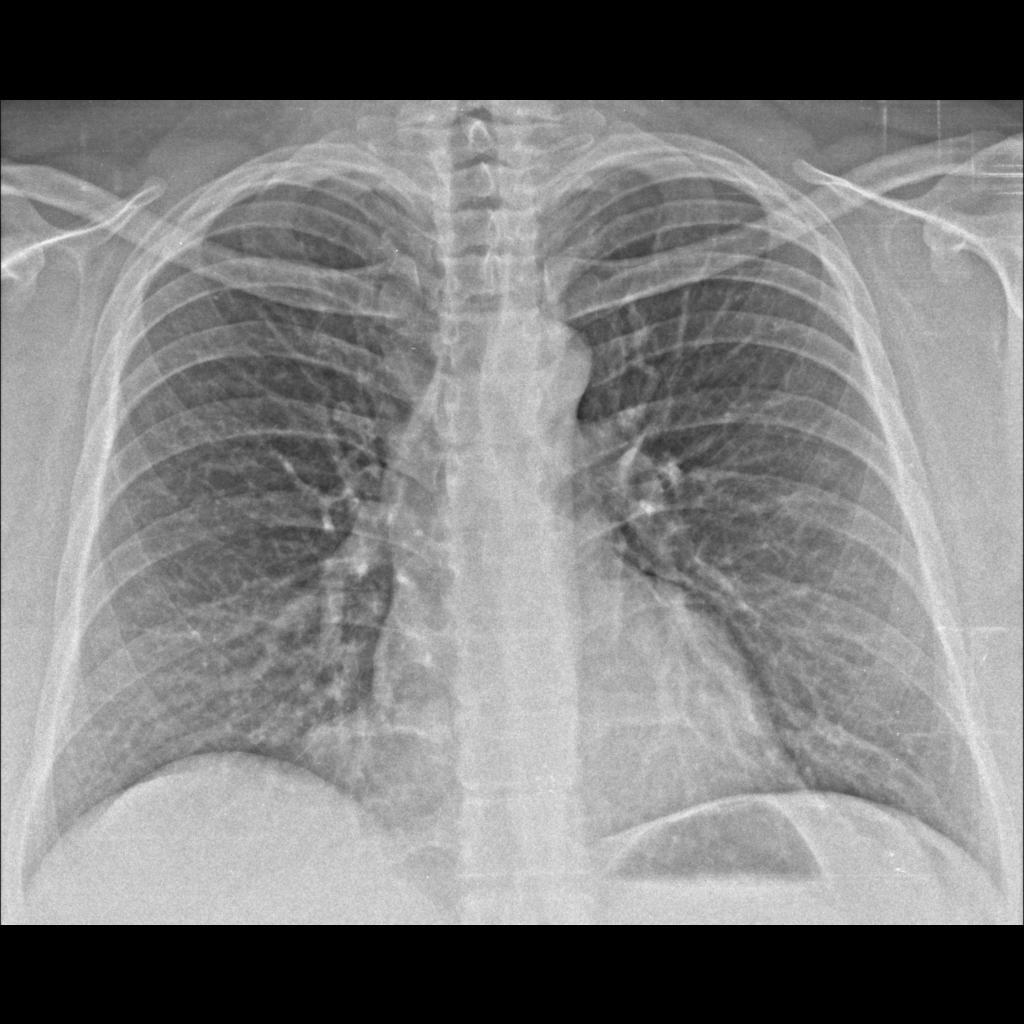Nodule: (289, 696, 384, 797)
